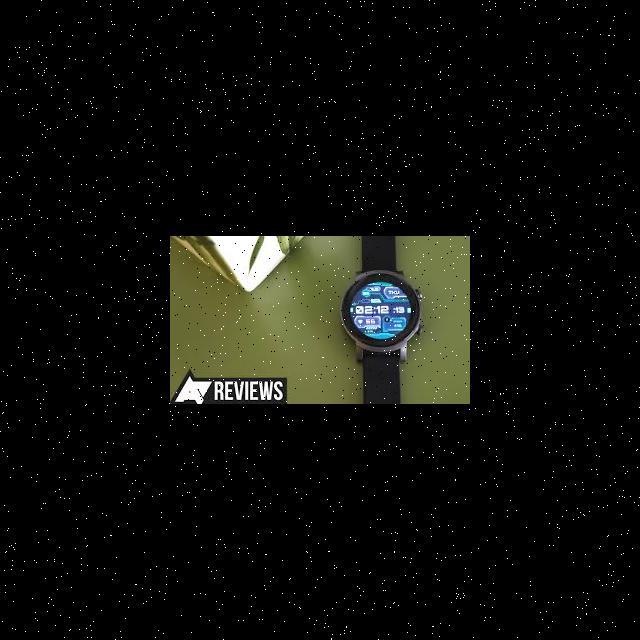watch: (322, 230, 442, 422)
